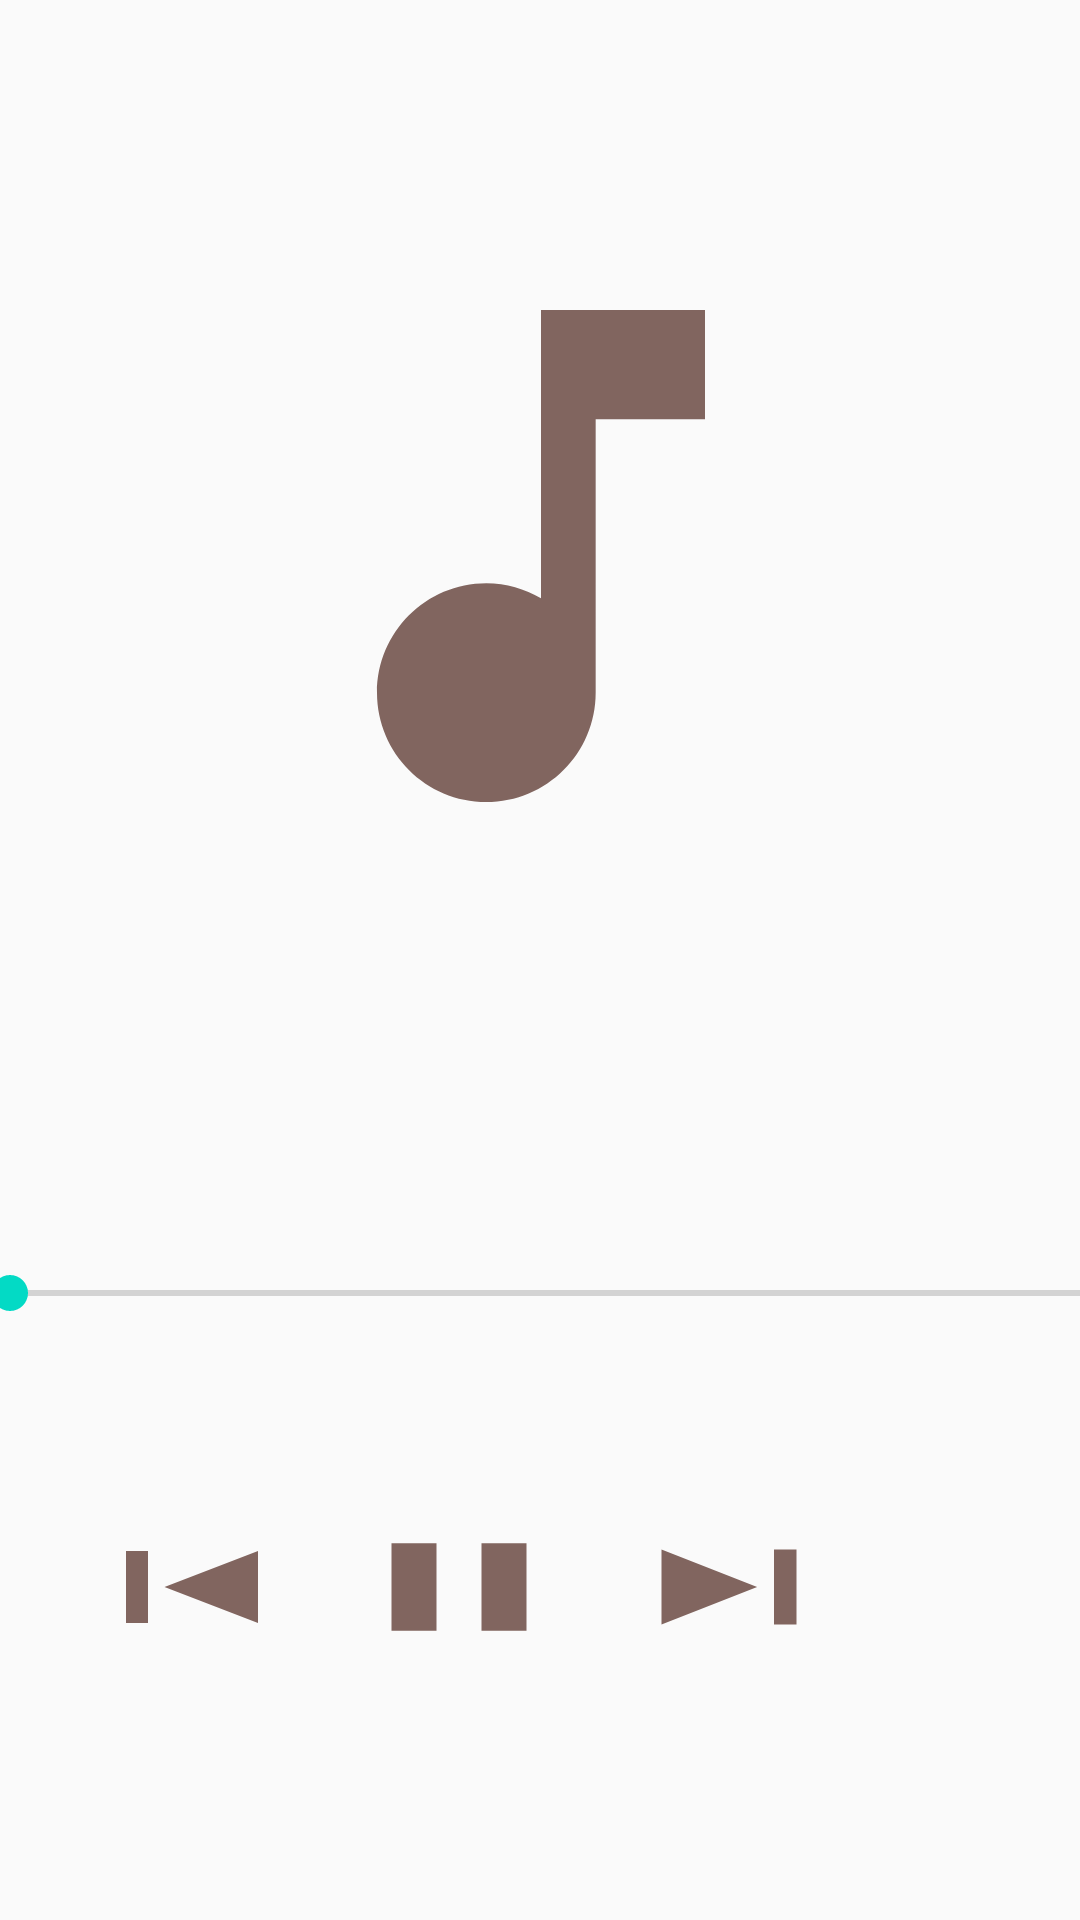

Icon bounding boxes for this 1080x1920 phone screenshot, format {"left": x1, "top": y1, "right": x2, "bottom": y2}:
pause: {"left": 391, "top": 1543, "right": 527, "bottom": 1631}
skip next: {"left": 661, "top": 1549, "right": 797, "bottom": 1625}
skip previous: {"left": 126, "top": 1551, "right": 258, "bottom": 1623}
